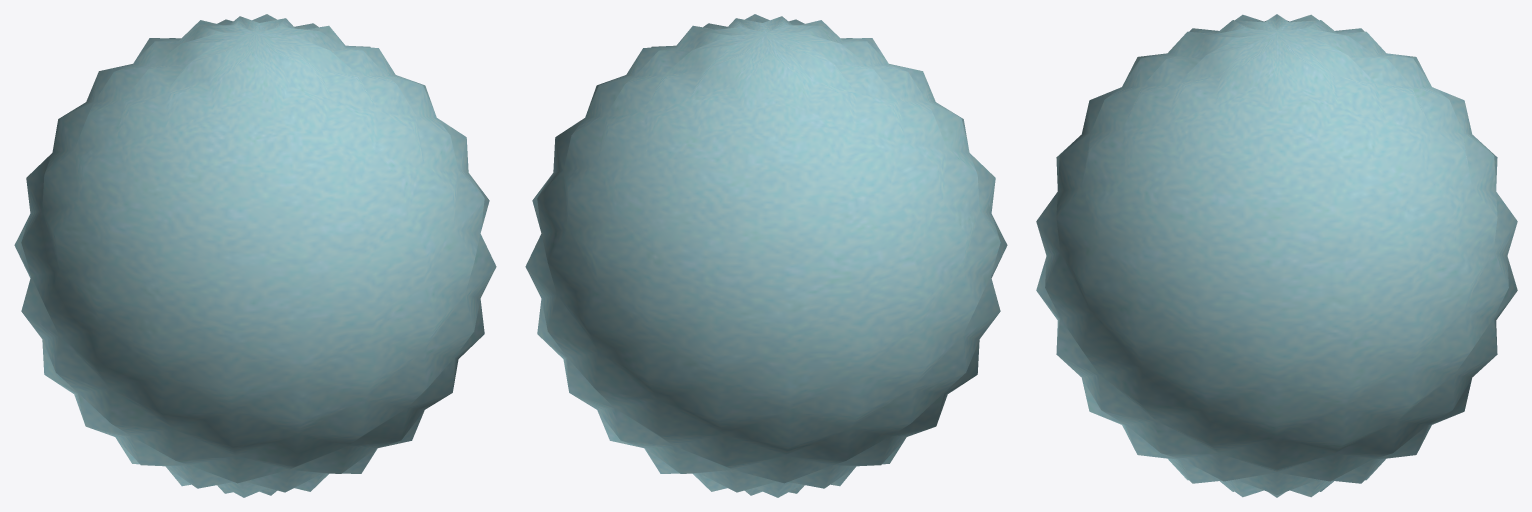
File: Weapons_Snowball_3P_LOD0.glb
3 renders of one model, left to right at view 1: azimuth 30°, elevation 25°; view 2: azimuth 150°, elevation 25°; view 3: azimuth 270°, elevation 25°, orthographic.
Parts seen in each view (by area): view 1: Hoodie; view 2: Hoodie; view 3: Hoodie.
Part boxes in pixels (x1,y1,x2,y2): Hoodie: (14, 14, 496, 497); Hoodie: (525, 14, 1007, 497); Hoodie: (1036, 14, 1517, 497).
Bounding box in the file's own units: 0.1077 × 0.1085 × 0.1064.
1 material, 1 textured.
